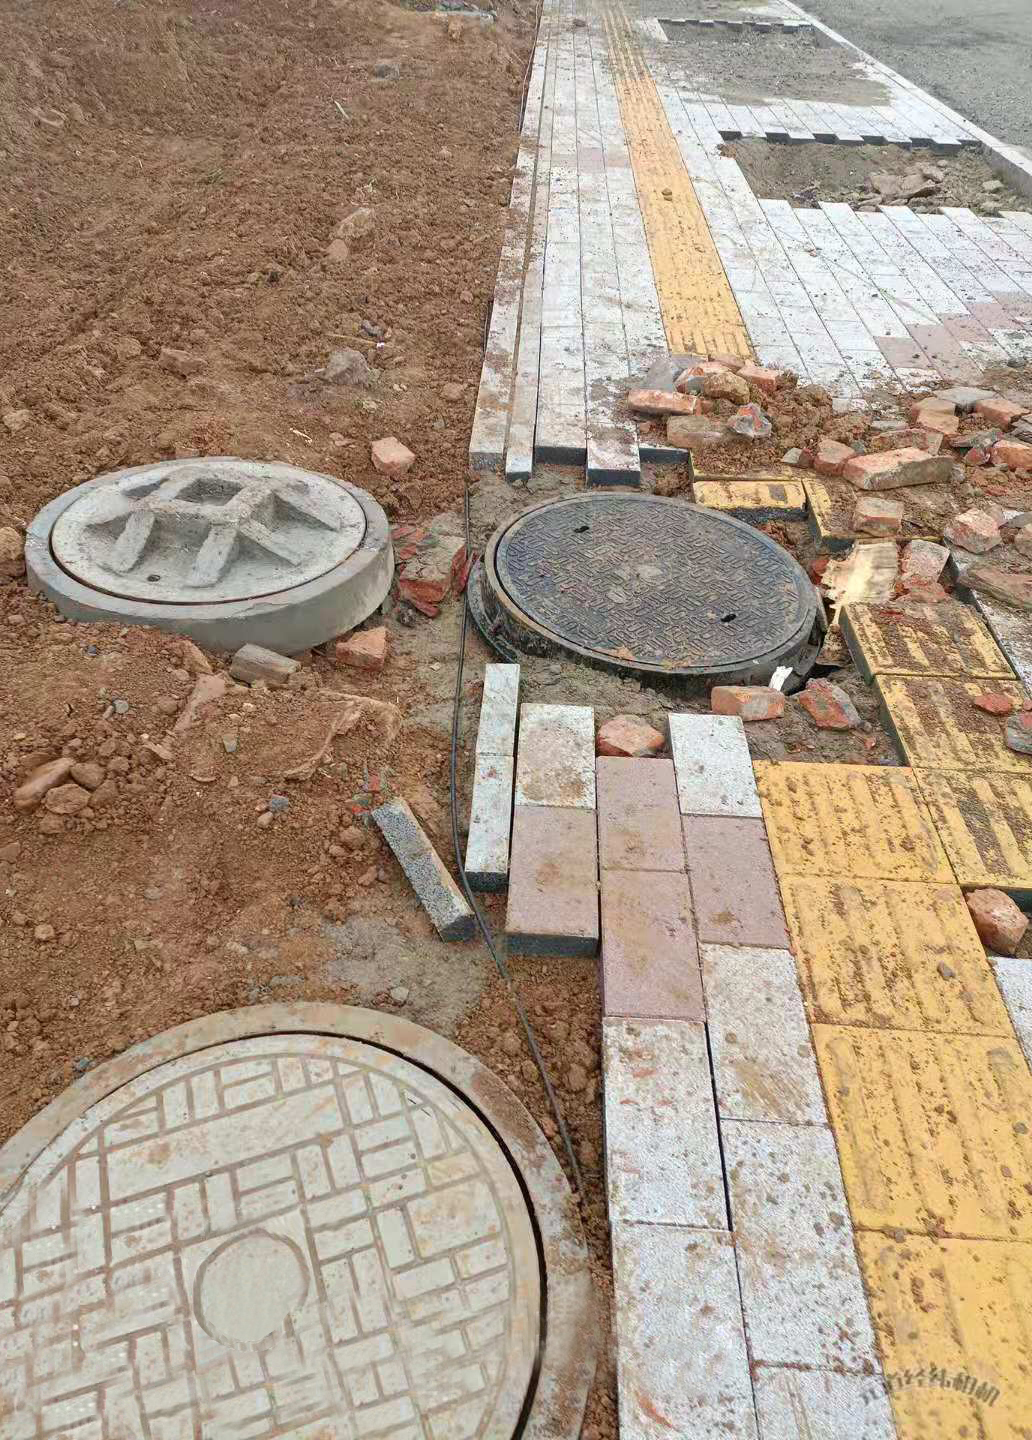well: (0, 1000, 591, 1434), (474, 495, 822, 674), (26, 454, 386, 620), (649, 16, 894, 100)
